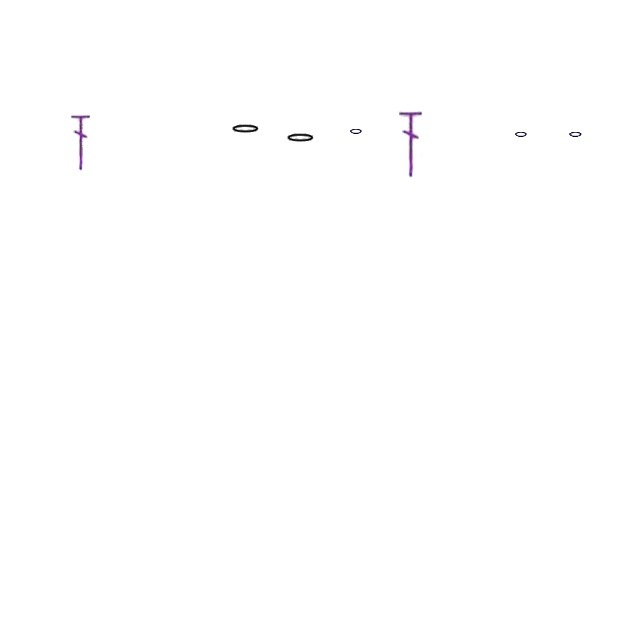chain: (400, 108, 422, 178), (72, 112, 90, 172)
treble: (230, 123, 262, 135), (286, 132, 316, 144), (568, 129, 584, 139), (349, 126, 363, 136), (514, 129, 528, 139)
